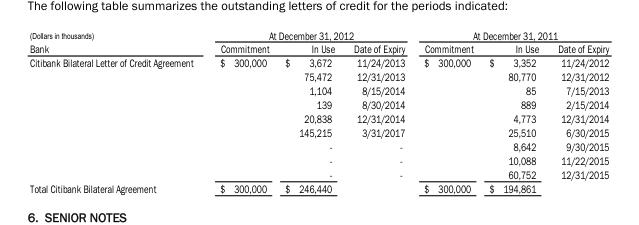table: (29, 28, 608, 193)
table column: (29, 28, 205, 193), (205, 28, 276, 193), (343, 28, 413, 193), (276, 28, 343, 193), (413, 28, 480, 193), (480, 28, 547, 193), (547, 28, 608, 193)
table column header: (29, 28, 608, 54)
table row: (29, 54, 608, 68), (29, 68, 608, 82), (29, 82, 608, 96), (29, 96, 608, 110), (29, 110, 608, 124), (29, 124, 608, 138), (29, 138, 608, 152), (29, 152, 608, 166), (29, 166, 608, 180), (29, 28, 608, 41), (29, 41, 608, 54), (29, 180, 608, 193)
table spanning cell: (29, 28, 205, 54), (205, 28, 413, 41), (413, 28, 608, 41)
